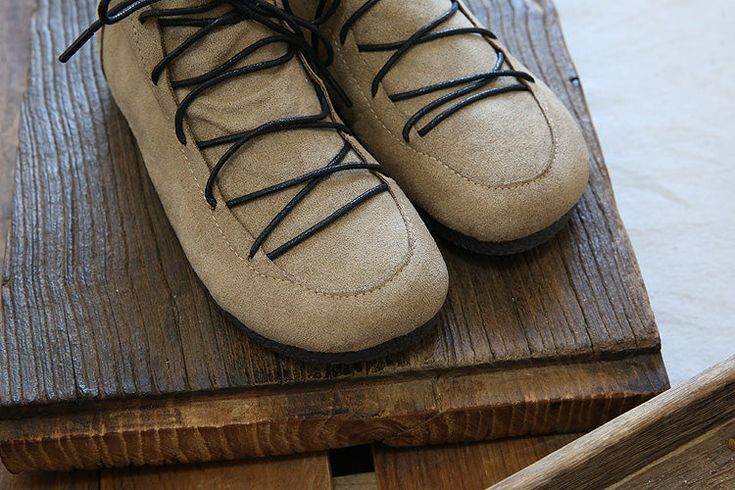gamuza: (97, 1, 591, 353)
